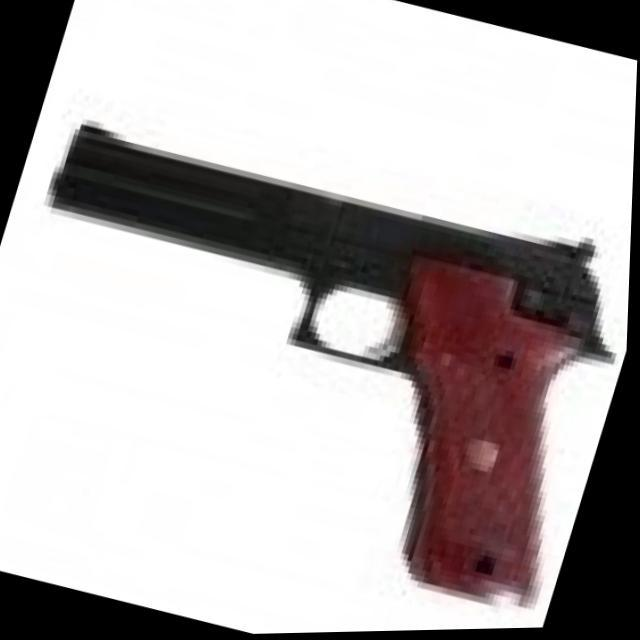weapon: (0, 94, 637, 623)
